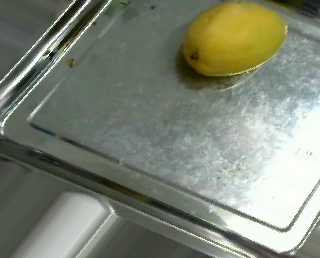Mango: (181, 0, 289, 78)
